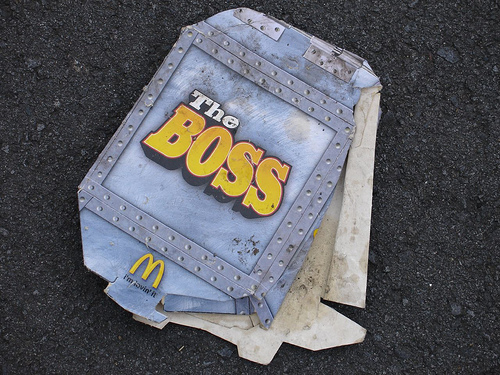litter: (76, 6, 379, 369)
